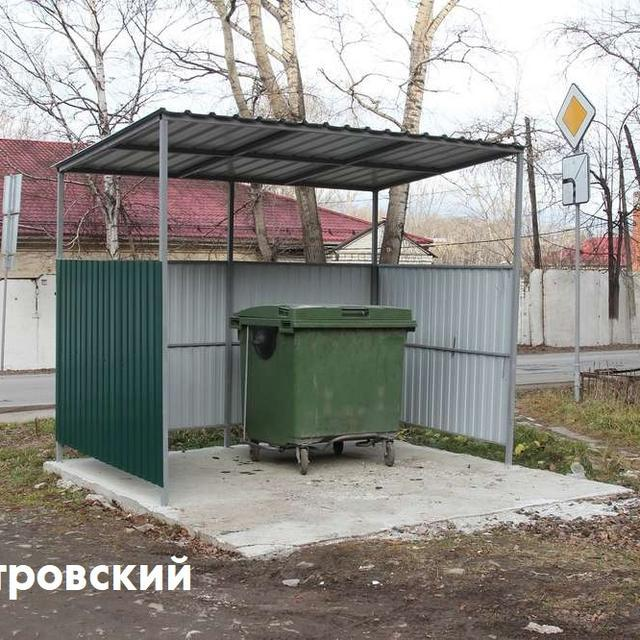Trash_Can_Closed: (230, 303, 418, 449)
